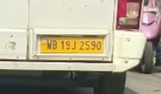plate: (39, 35, 105, 53)
